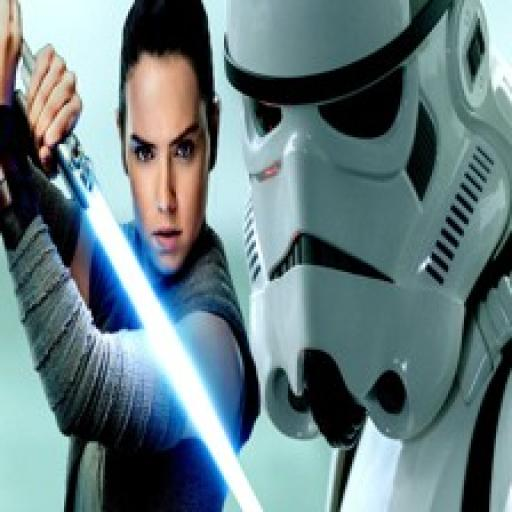human: (5, 1, 263, 512)
lightsaber: (1, 9, 275, 512)
